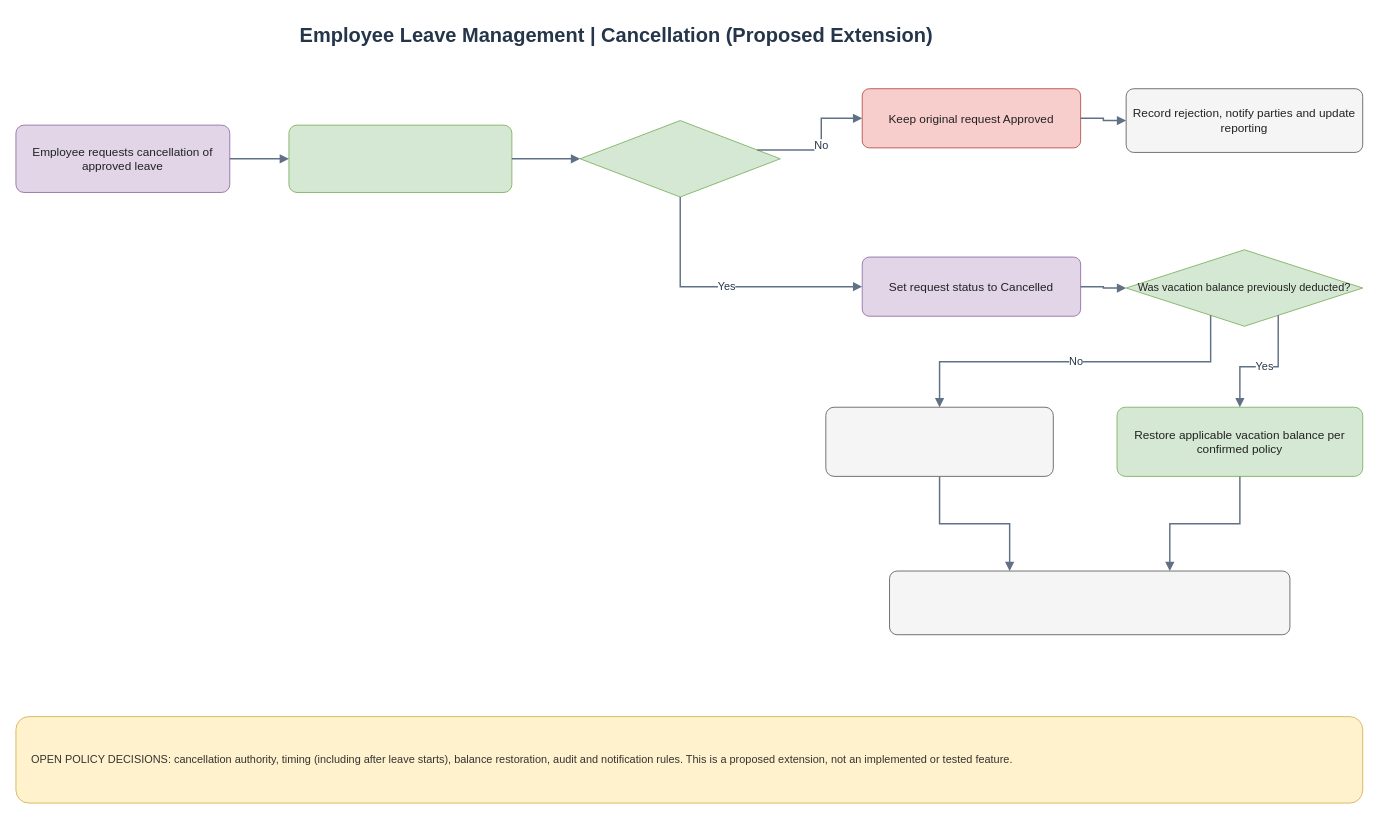
Some shapes in this 1379 by 819 pixel diagram are drawn without their labels. Here are the shapes that lost their labels. From the top down, the centre of each, then its label:
the point at 400,158: Authorized manager / HR reviews cancellation
the point at 679,158: Cancellation approved?
the point at 939,441: No vacation balance adjustment
the point at 1089,602: Record cancellation, notify parties and update reporting
